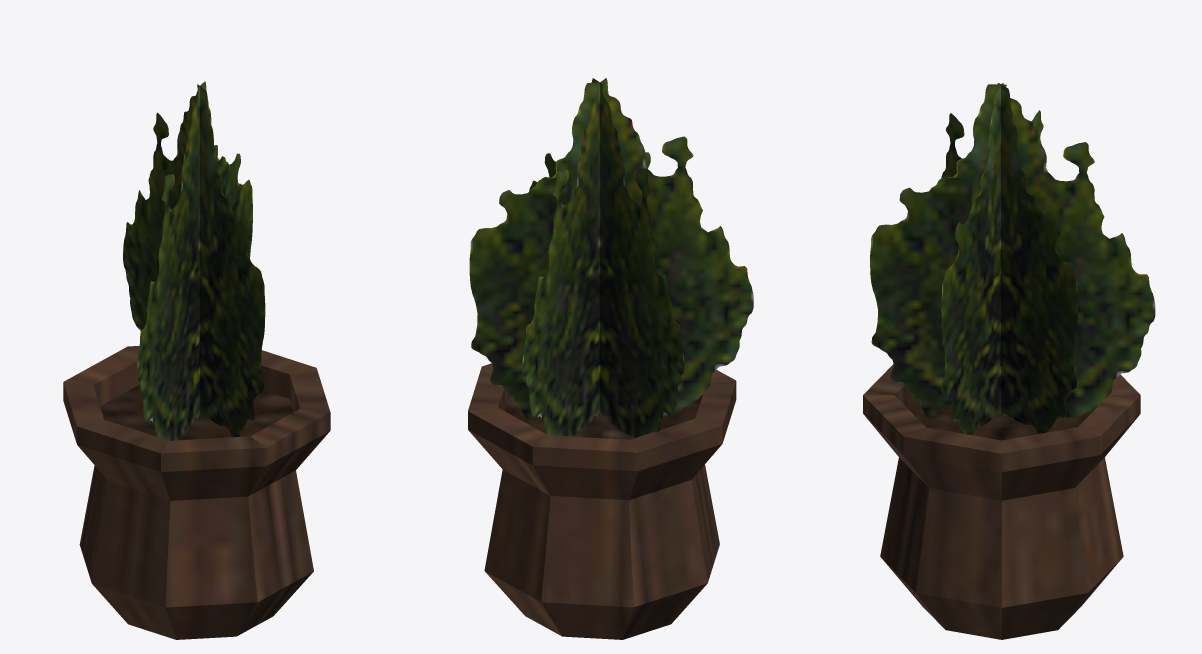
The model's file is PotPlant1.fbx.
3 renders of one model, left to right at view 1: azimuth 30°, elevation 25°; view 2: azimuth 150°, elevation 25°; view 3: azimuth 270°, elevation 25°, orthographic.
Parts seen in each view (by area): view 1: Cylinder.001; view 2: Cylinder.001; view 3: Cylinder.001.
Boxes of the visible parts, box(x1,y1,x2,y2) form: Cylinder.001: box(63, 81, 330, 639); Cylinder.001: box(468, 78, 753, 639); Cylinder.001: box(863, 83, 1155, 639).
Size of the model in its own units: 72.74 by 126 by 81.66.
Materials: 2 (2 with a texture image).
